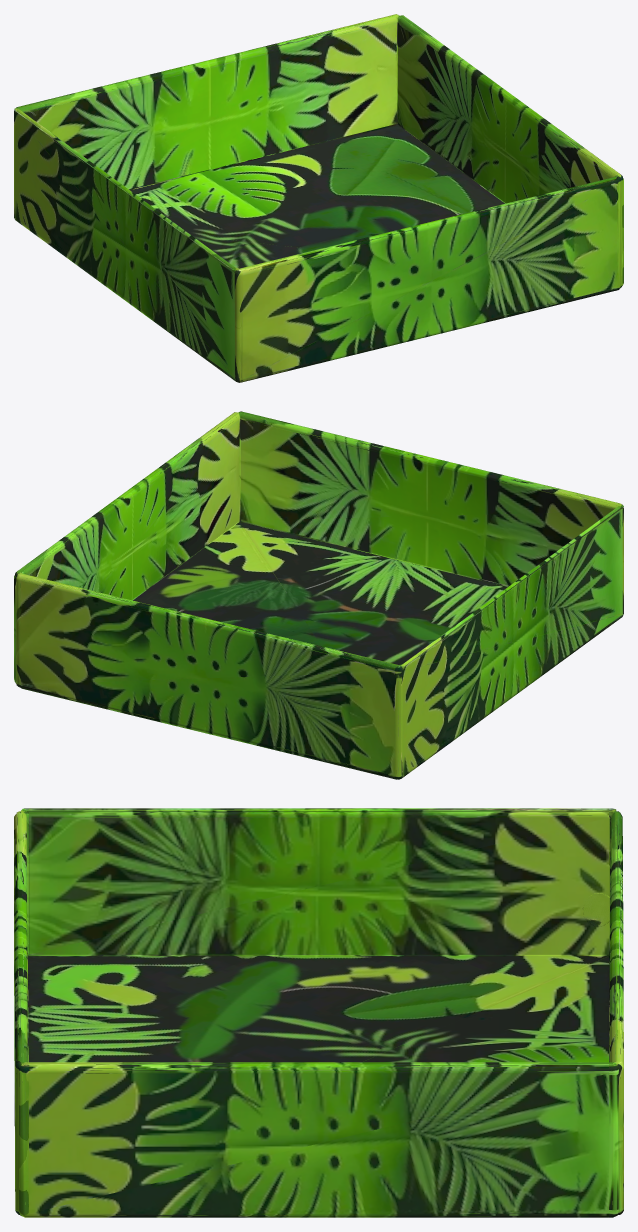
File: 3d-box-jungle.glb
3 views of the same model, one above another, from view 1: azimuth 30°, elevation 25°; view 2: azimuth 150°, elevation 25°; view 3: azimuth 270°, elevation 25° (orthographic). The views are drawn at different scales.
Parts seen in each view (by area): view 1: Mesh_0; view 2: Mesh_0; view 3: Mesh_0.
Part boxes in pixels (x1,y1,x2,y2): Mesh_0: (14,14,623,382); Mesh_0: (14,411,623,779); Mesh_0: (14,808,623,1217).
Bounding box in the file's own units: 1.9 × 0.5284 × 1.9.
Materials: 1 (1 with a texture image).
